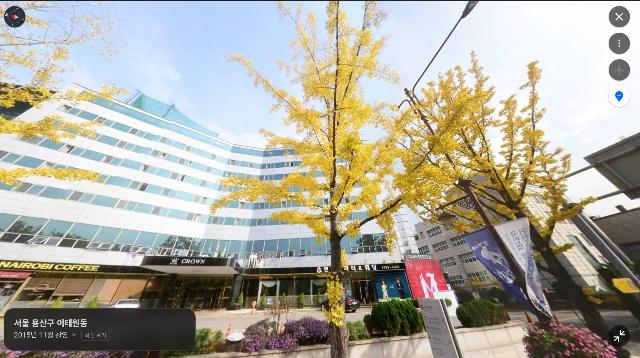ginkgo: (205, 0, 447, 358), (374, 47, 629, 358), (0, 0, 131, 193)
